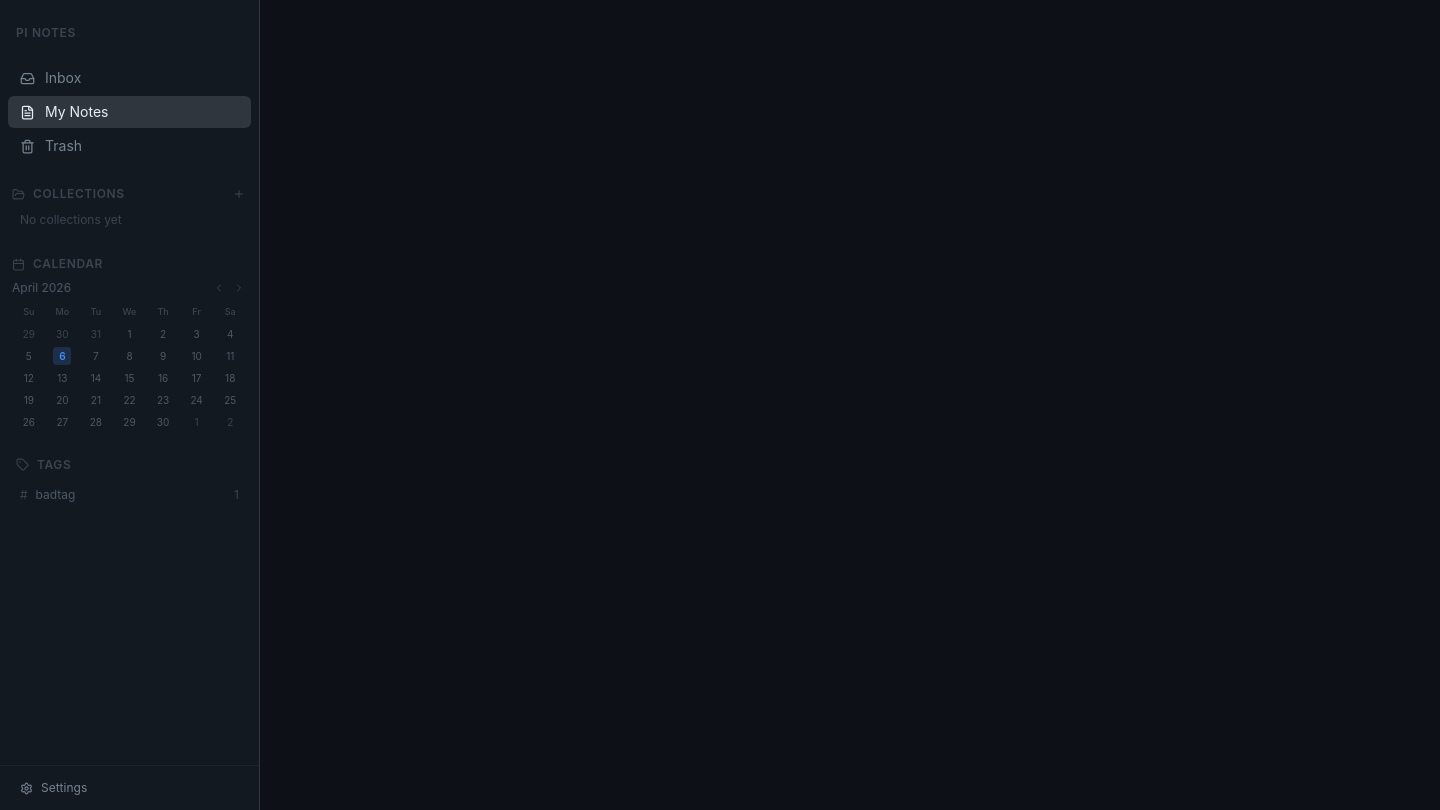
Test: Sidebar › shows toast when deleteTag fails
Hover over the text "badtag" at (56,494), box [36,487,75,502]
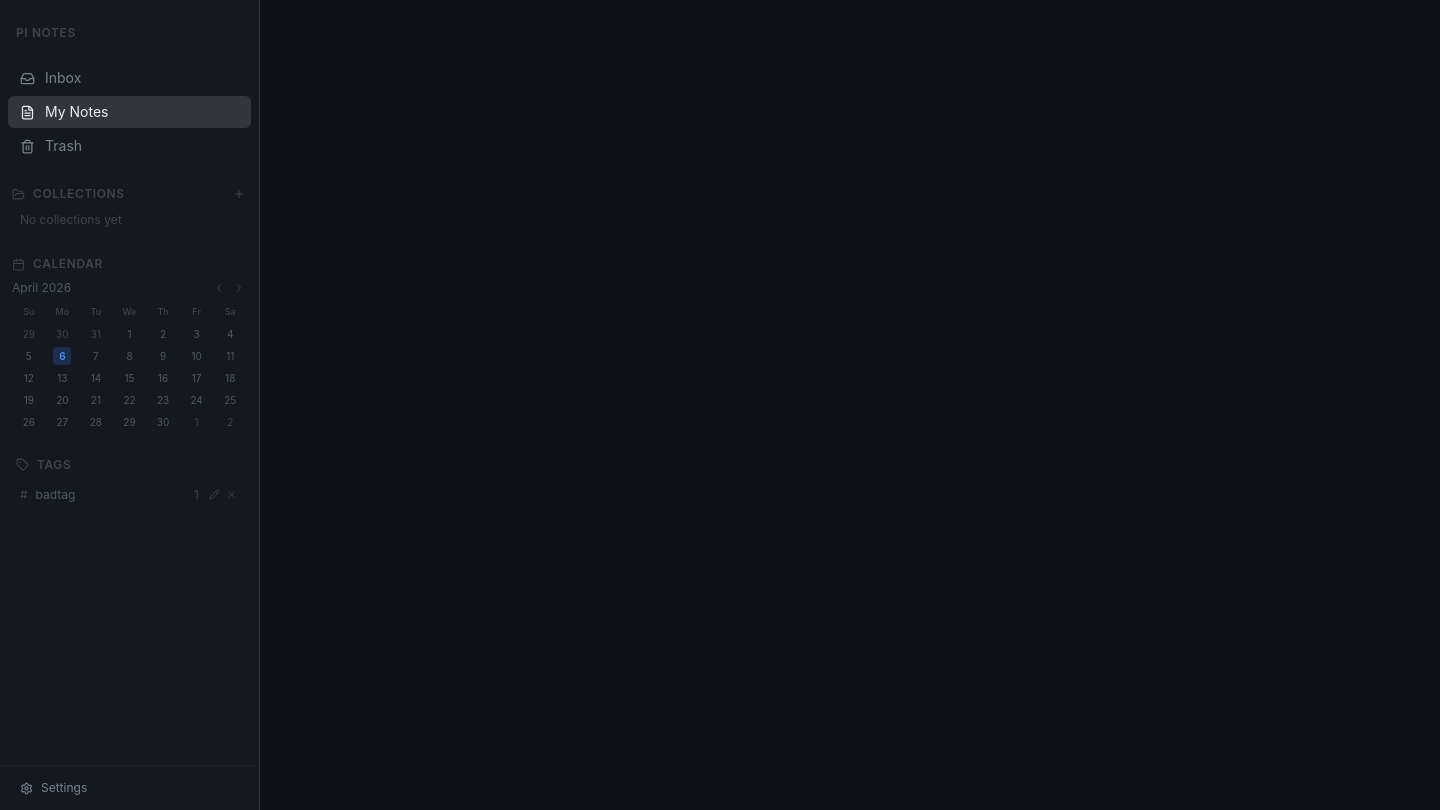
Click the button named "Delete tag badtag" at (232,495), box [224,488,239,502]
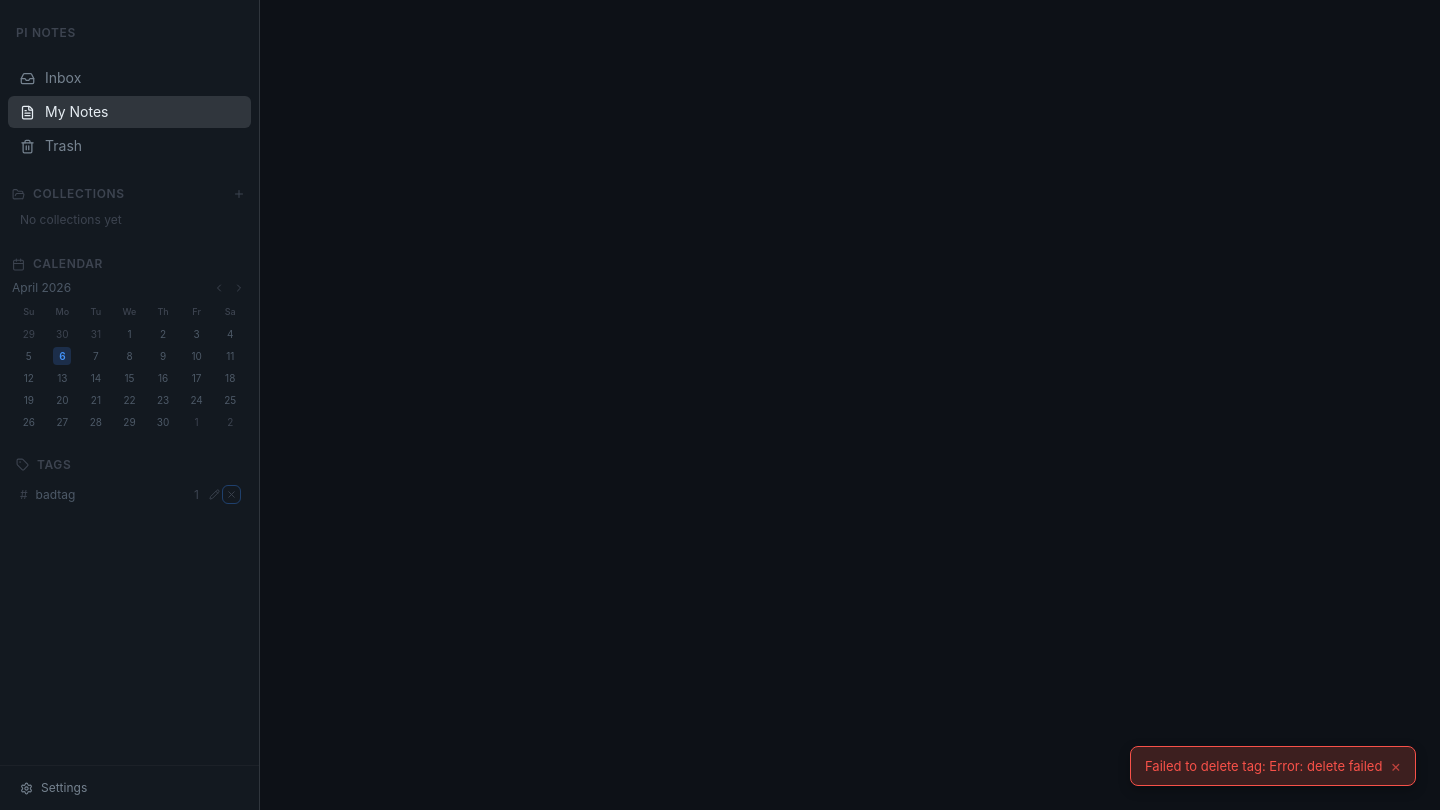
Expected: the text "Failed to delete tag: Error: delete failed" is shown, [1145,757,1382,775]
